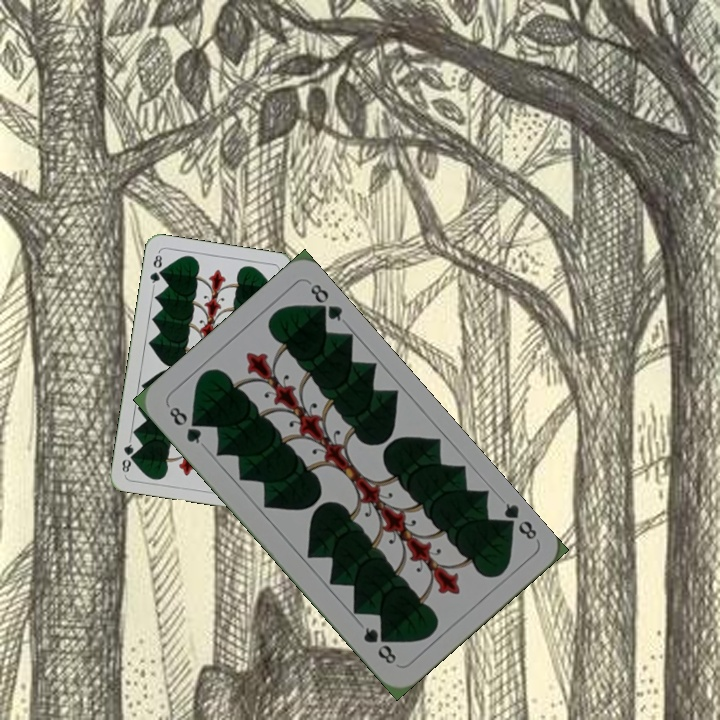G8: (496, 498, 540, 543), (165, 402, 204, 447), (146, 249, 165, 289)
